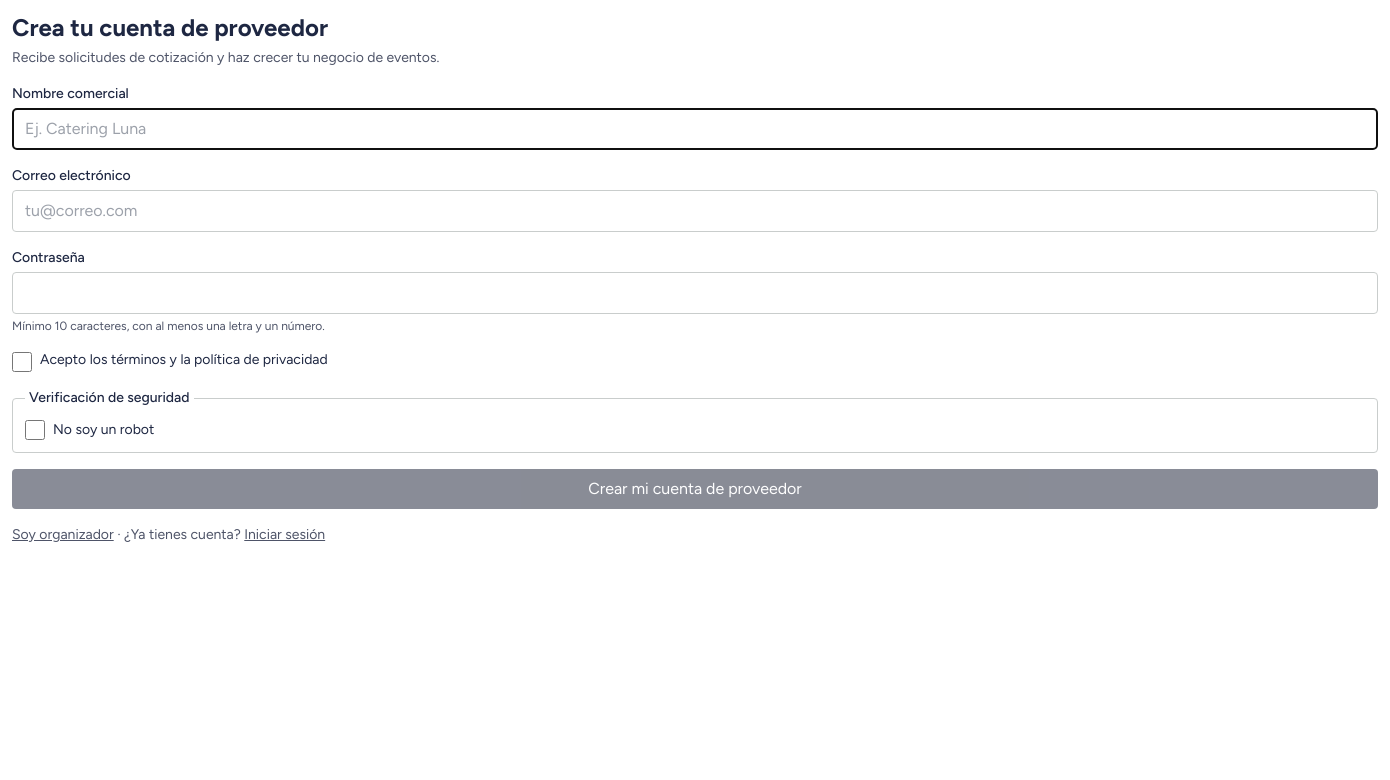
Test: US-002 FE-002/FE-003/FE-004 — flujo vendor › EC-03: businessName de 1 carácter → error de campo, sin request
The width and height of the screenshot is (1390, 780).
Type "A" into the field labelled "Nombre comercial". click: {"x": 695, "y": 129}
box: [12,108,1378,150]
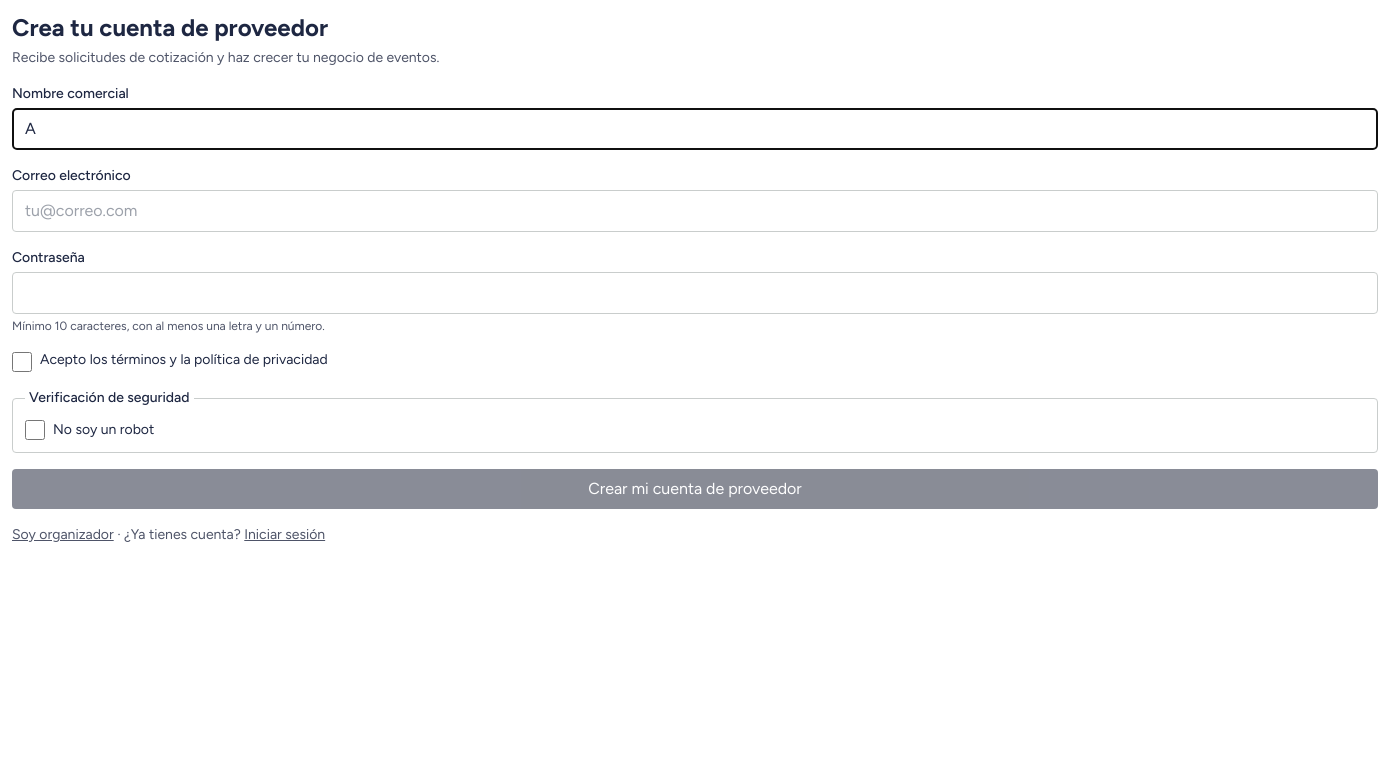
Type "luna@eventflow.test" into the field labelled "Correo electrónico". click: {"x": 695, "y": 211}
box: [12,190,1378,232]
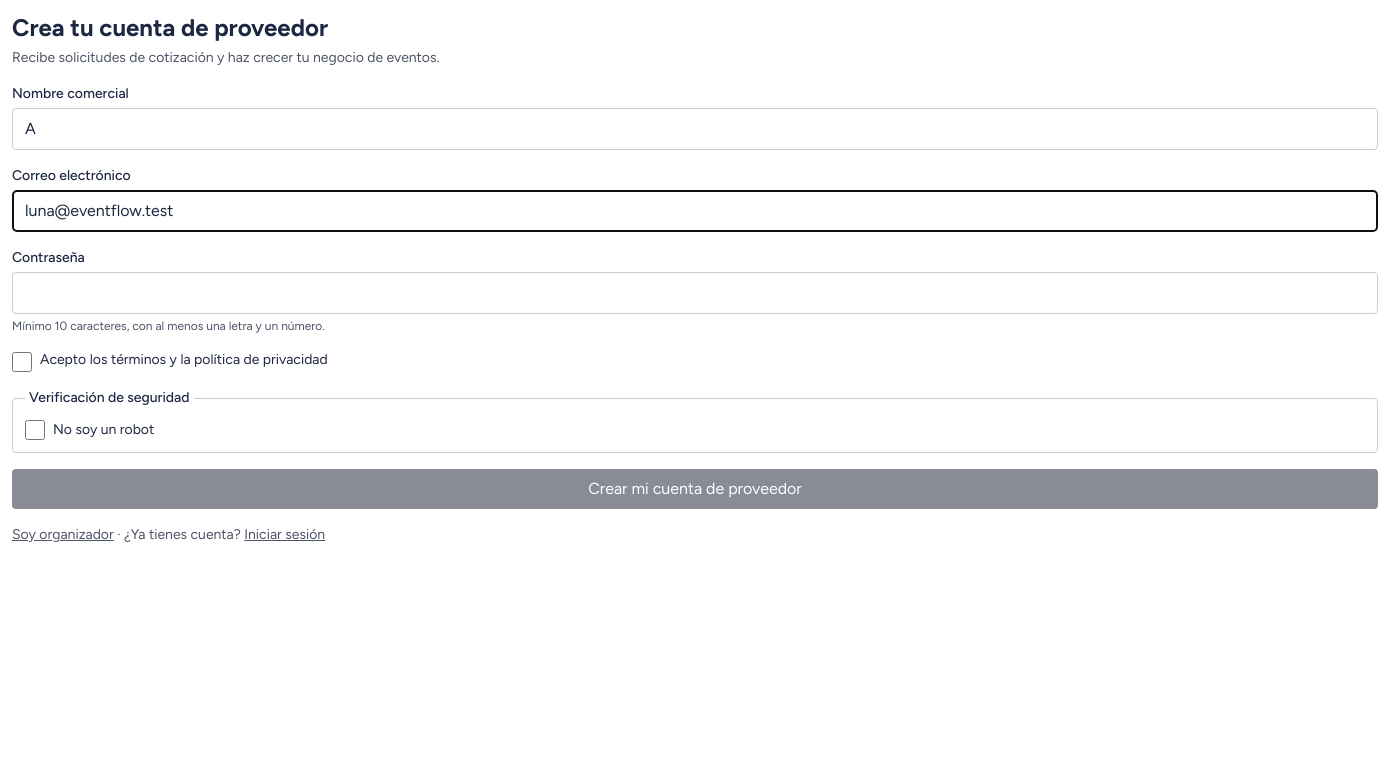
Type "segura12345" into the password field labelled "Contraseña". click: {"x": 695, "y": 293}
box: [12,272,1378,314]
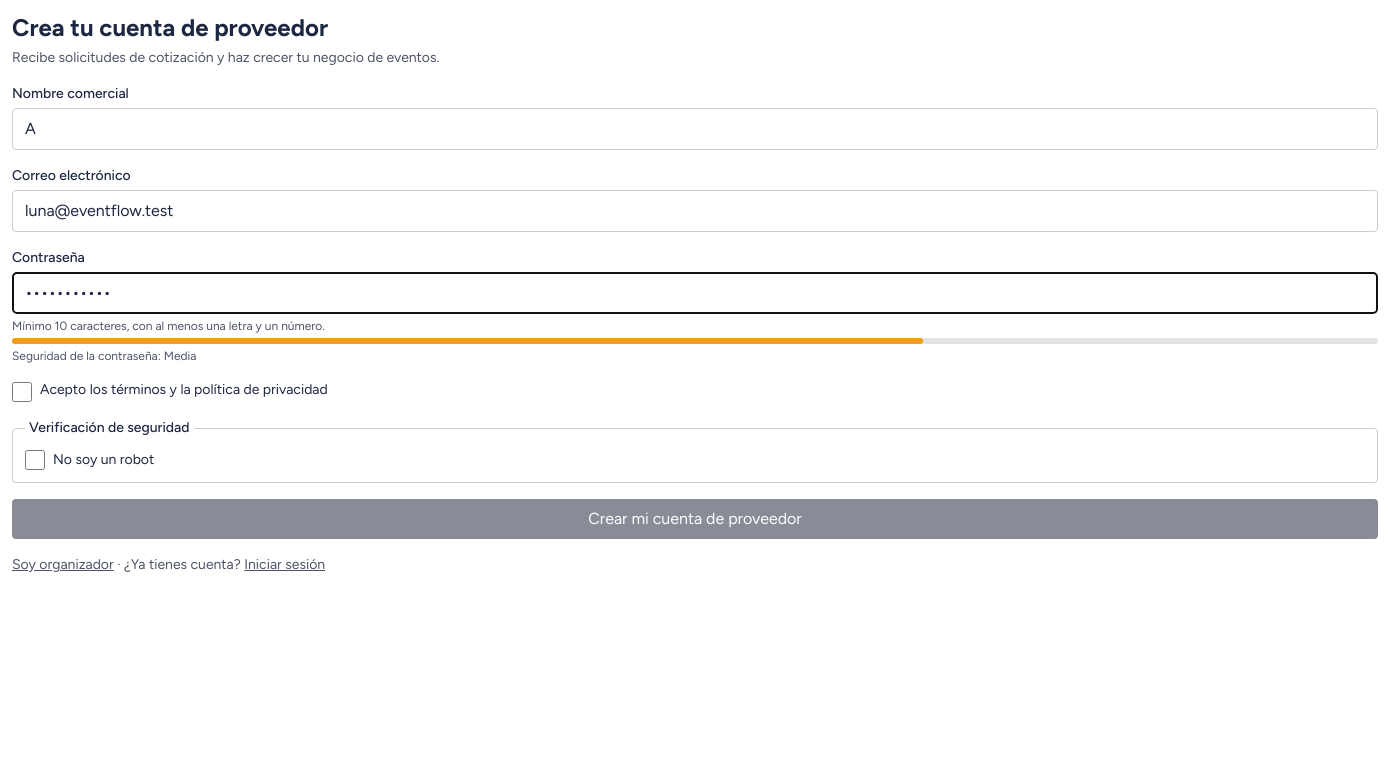
Click the checkbox labelled "Acepto los términos y la política de privacidad". click: {"x": 22, "y": 392}
box: [12,382,32,402]
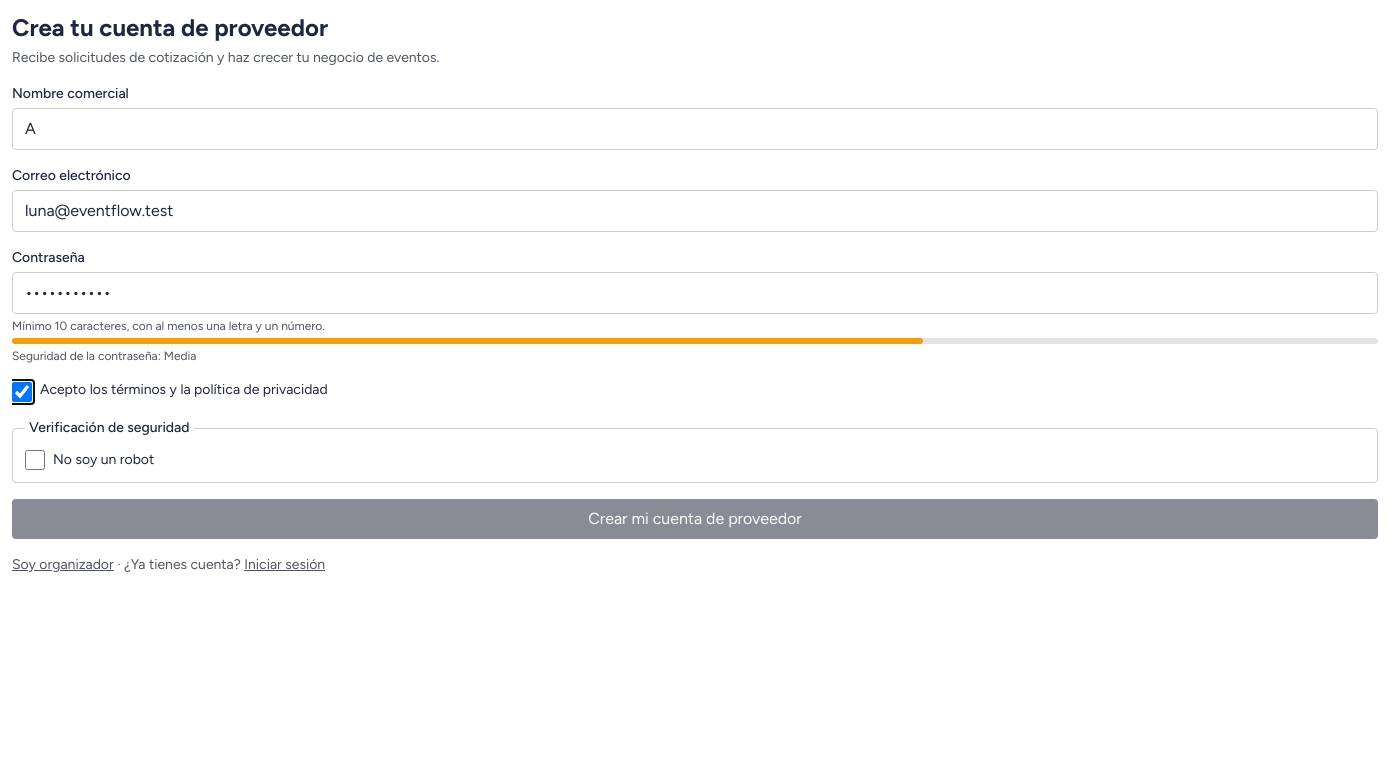
Click the checkbox labelled "No soy un robot". click: {"x": 35, "y": 460}
box: [25,450,45,470]
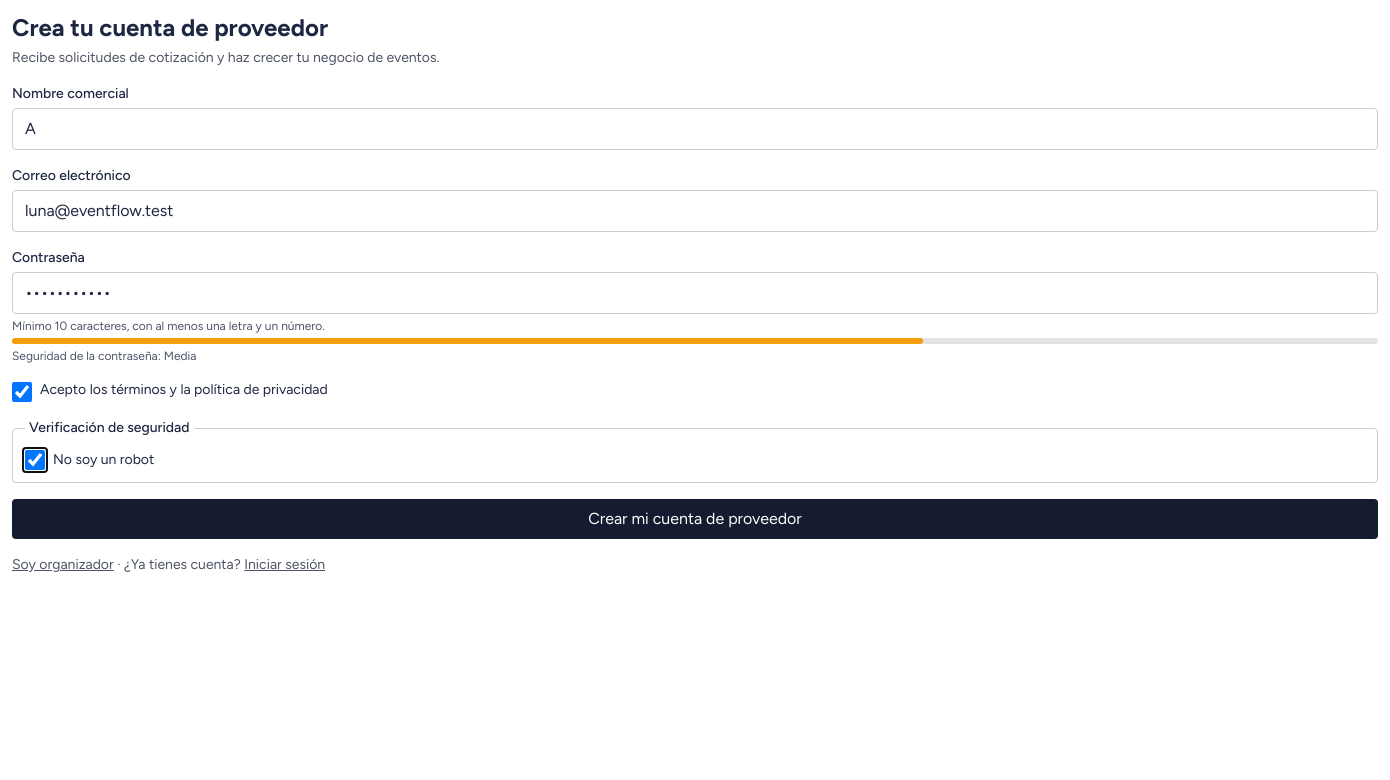
Click the button "Crear mi cuenta de proveedor". click: {"x": 695, "y": 519}
box: [12,499,1378,539]
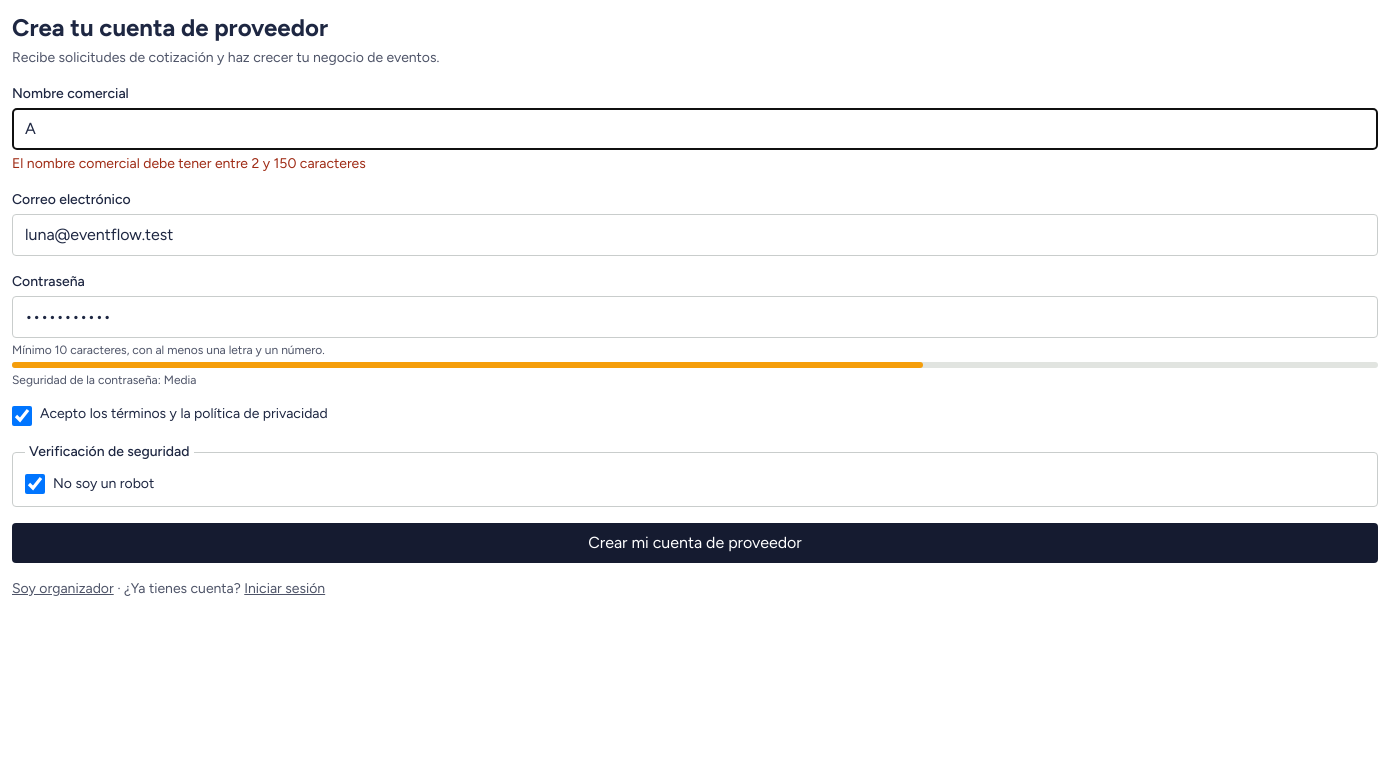
Expected: the text "El nombre comercial debe tener entre 2 y 150 caracteres" is shown, [12,155,366,172]
